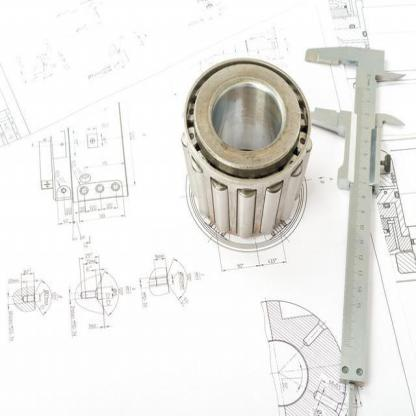FOD: (180, 53, 315, 250)
